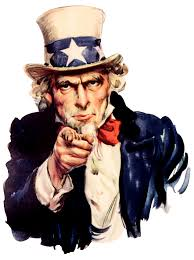hand: (47, 126, 101, 174)
